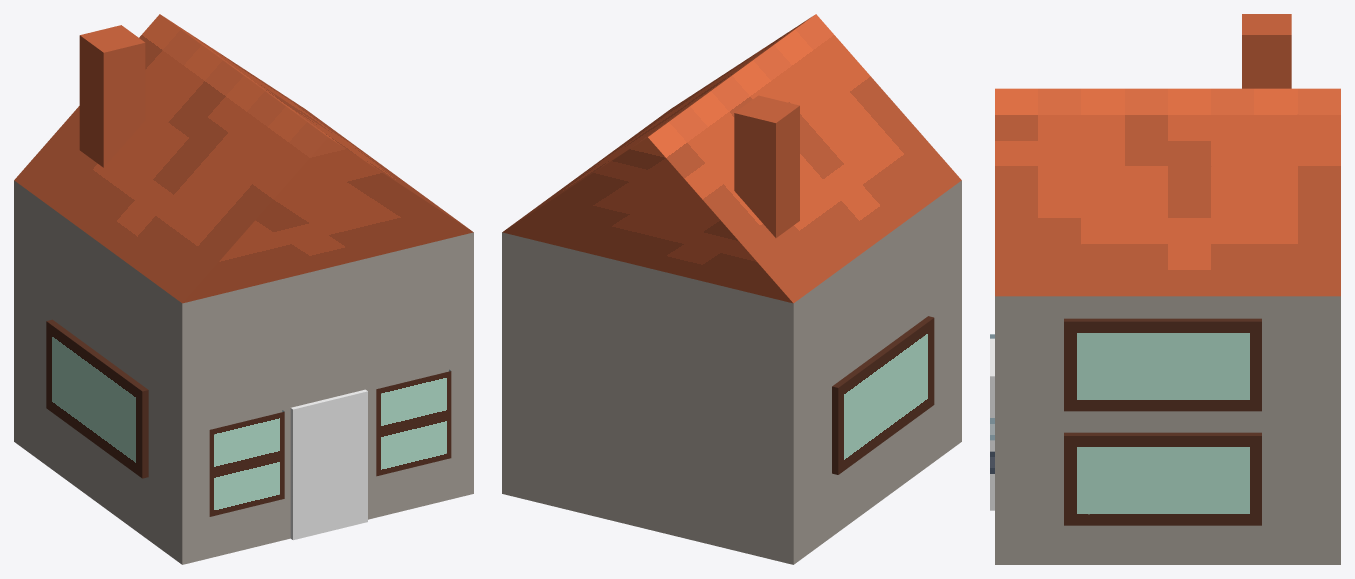
File: house.gltf
The picture shows the model from 3 angles, left to right: view 1: azimuth 30°, elevation 25°; view 2: azimuth 150°, elevation 25°; view 3: azimuth 270°, elevation 25°; orthographic projection. The views are drawn at different scales.
Parts seen in each view (by area): view 1: walls, roof, Door; view 2: walls, roof; view 3: walls, roof, Door.
Part boxes in pixels (left/top/right/bottom): walls: left=14, top=180, right=473, bottom=564; roof: left=14, top=14, right=473, bottom=303; Door: left=290, top=389, right=367, bottom=540; walls: left=502, top=180, right=961, bottom=564; roof: left=502, top=14, right=961, bottom=303; walls: left=990, top=296, right=1340, bottom=564; roof: left=995, top=14, right=1340, bottom=296; Door: left=990, top=338, right=994, bottom=510.
Size of what is drawn, in the model's own units: 0.9125 by 1.19 by 0.8875.
6 materials, 5 textured.
